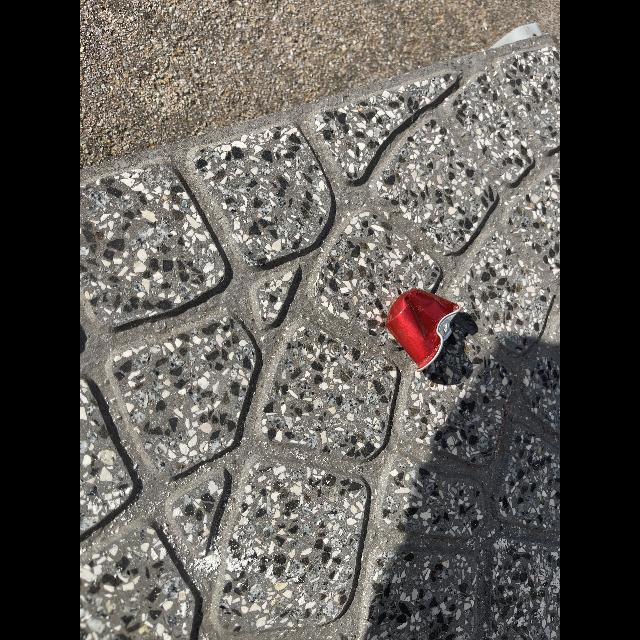damaged_capsule: (380, 275, 474, 385)
